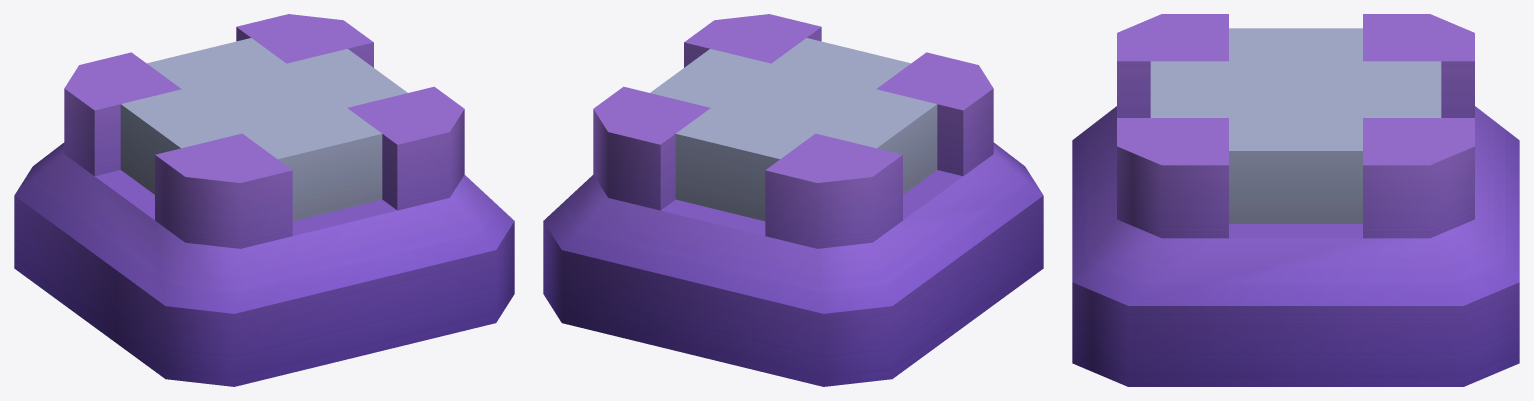
File: kenney-tower-defense-tower-square-bottom-c.glb
3 renders of one model, left to right at view 1: azimuth 30°, elevation 25°; view 2: azimuth 150°, elevation 25°; view 3: azimuth 270°, elevation 25°, orthographic. The views are drawn at different scales.
Visible parts, largest first — view 1: tower-square-bottom-c; view 2: tower-square-bottom-c; view 3: tower-square-bottom-c.
Part boxes in pixels (x1=…): tower-square-bottom-c: x1=14, y1=14, x2=514, y2=386; tower-square-bottom-c: x1=543, y1=14, x2=1043, y2=386; tower-square-bottom-c: x1=1072, y1=14, x2=1519, y2=386.
Bounding box in the file's own units: 1 × 0.5001 × 1.
Materials: 1 (1 with a texture image).
